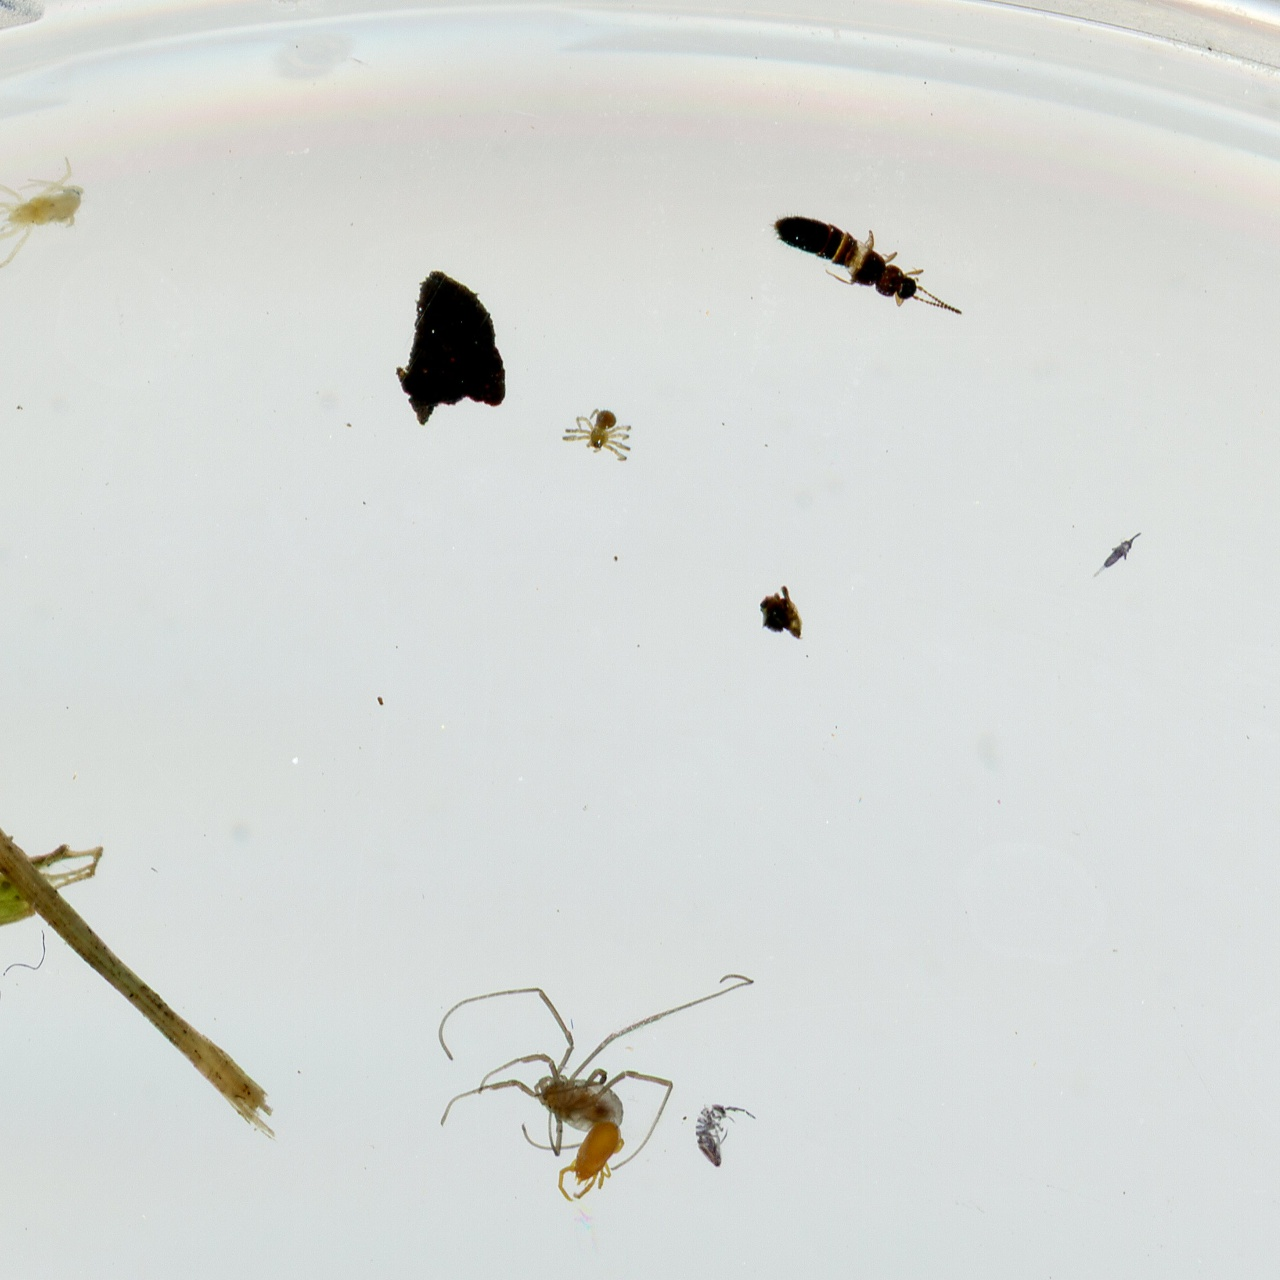arthropod: (433, 972, 755, 1173), (748, 192, 986, 334), (0, 134, 107, 290), (547, 1109, 634, 1216), (1083, 518, 1153, 592), (559, 402, 638, 468), (690, 1101, 758, 1170)
